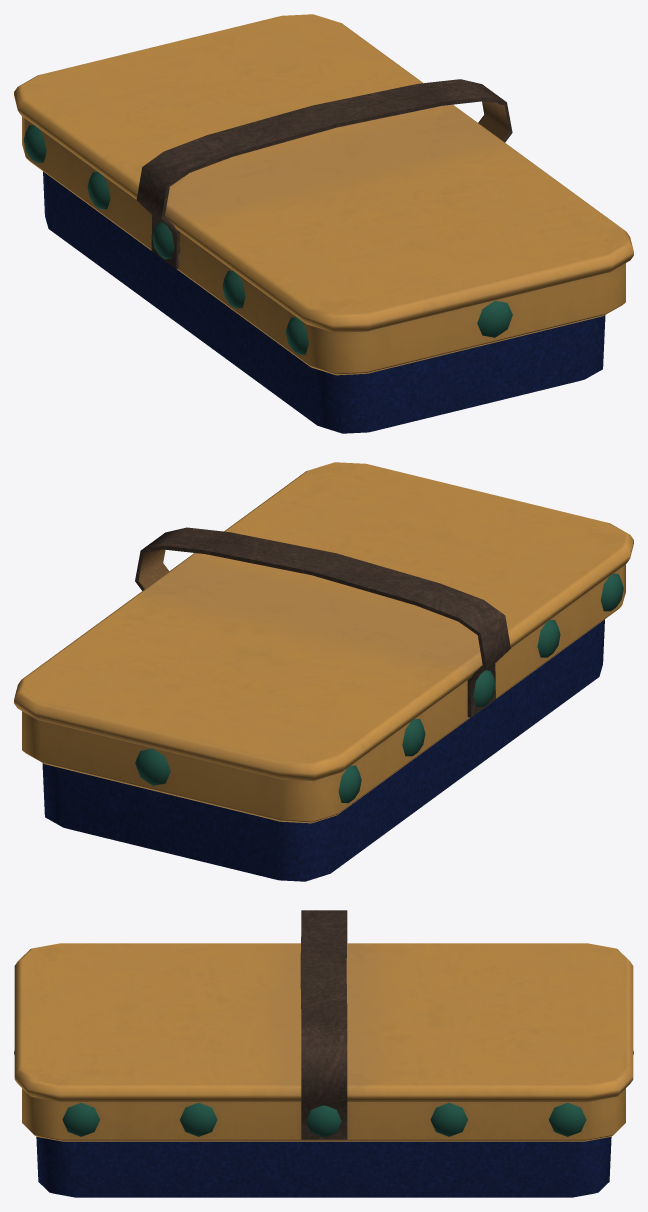
File: SM_ChalkboardEraser.fbx
The picture shows the model from 3 angles, top to bottom: view 1: azimuth 30°, elevation 25°; view 2: azimuth 150°, elevation 25°; view 3: azimuth 270°, elevation 25°; orthographic projection. The views are drawn at different scales.
Parts seen in each view (by area): view 1: SM_ChalkboardEraser_LOD0; view 2: SM_ChalkboardEraser_LOD0; view 3: SM_ChalkboardEraser_LOD0.
Part boxes in pixels (x1,y1,x2,y2): SM_ChalkboardEraser_LOD0: [14, 14, 633, 433]; SM_ChalkboardEraser_LOD0: [14, 462, 633, 881]; SM_ChalkboardEraser_LOD0: [14, 910, 633, 1197].
Bounding box in the file's own units: 9.79 × 16.13 × 4.82.
